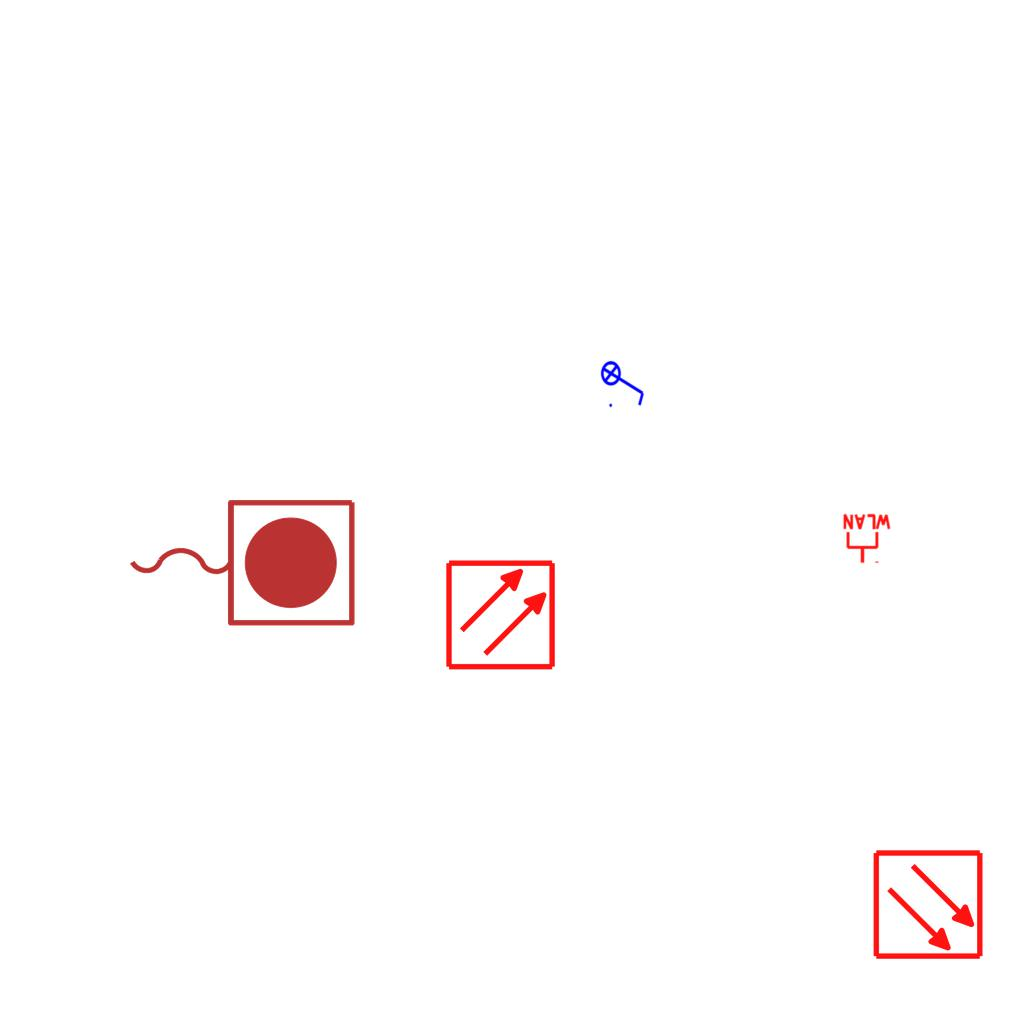Ausschalter_beleuchtet: (600, 354, 648, 410)
RMO_Rauchmelder_optischer: (444, 558, 557, 671), (872, 848, 985, 961)
WLAN: (841, 513, 893, 565)
Zugtaster: (119, 489, 363, 633)
